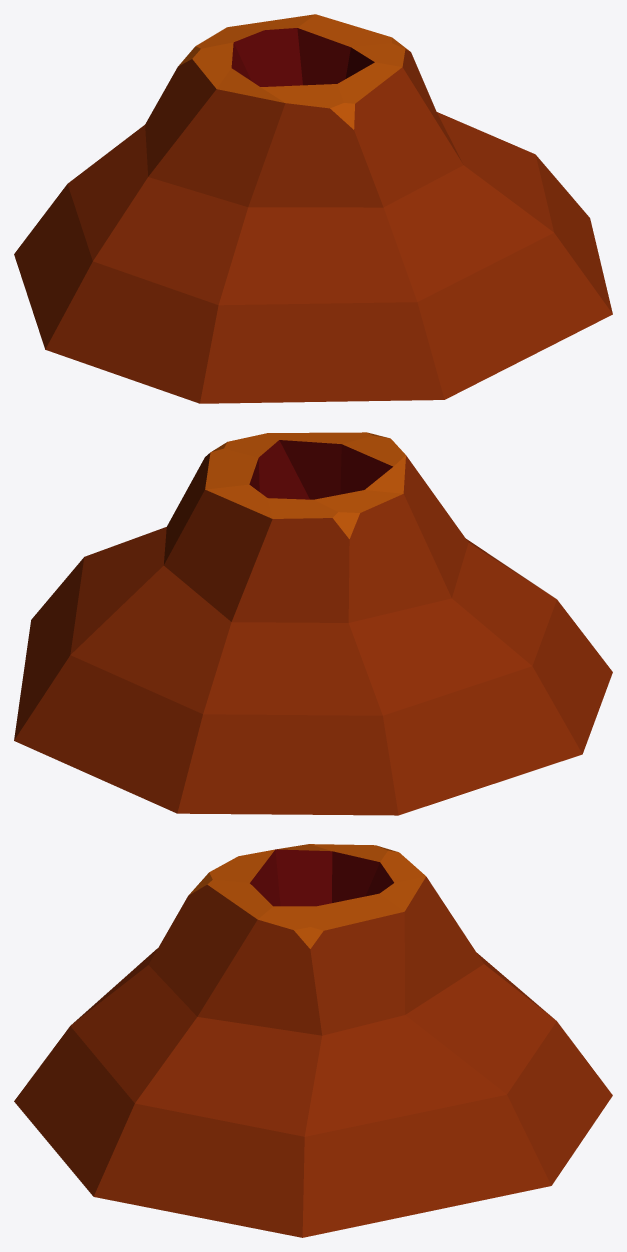
Rendered from Crater_02.glb.
3 views of the same model, one above another, from view 1: azimuth 30°, elevation 25°; view 2: azimuth 150°, elevation 25°; view 3: azimuth 270°, elevation 25° (orthographic). The views are drawn at different scales.
Parts seen in each view (by area): view 1: Crater_02; view 2: Crater_02; view 3: Crater_02.
Boxes of the visible parts, x1,y1,x2,y2 form: Crater_02: (14,14,612,403); Crater_02: (14,432,612,815); Crater_02: (14,844,612,1237).
Size of what is drawn, in the model's own units: 2.72 by 1.09 by 2.62.
Materials: 1 (1 with a texture image).
